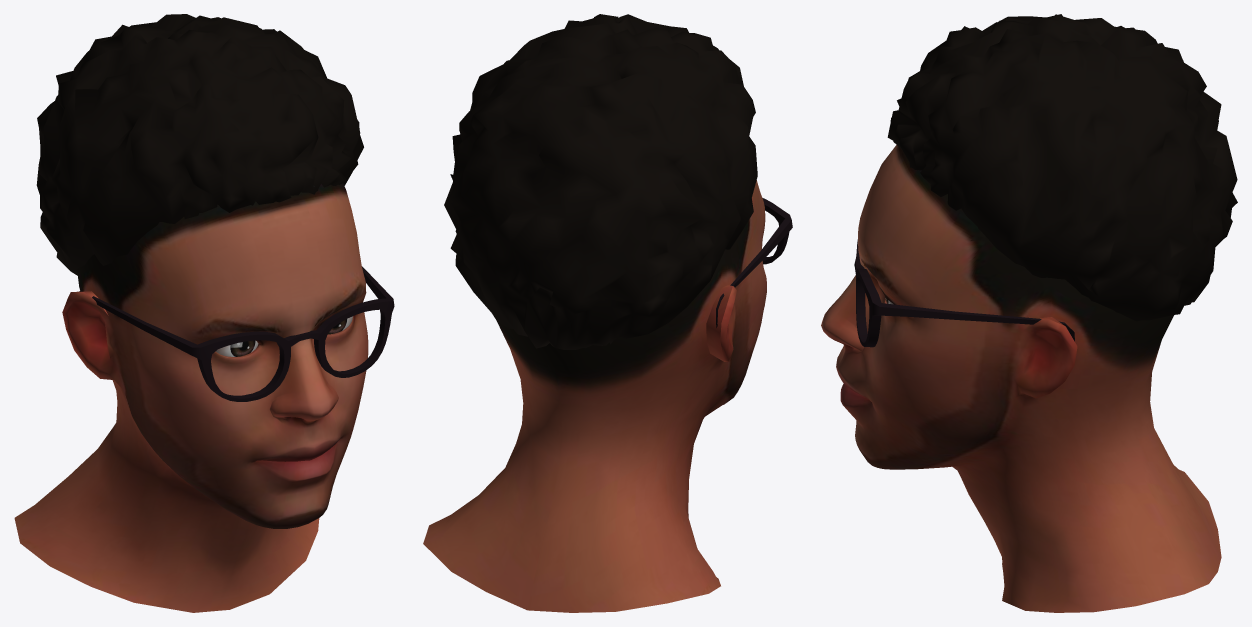
3 views of the same model, side by side, from view 1: azimuth 30°, elevation 25°; view 2: azimuth 150°, elevation 25°; view 3: azimuth 270°, elevation 25° (orthographic). The views are drawn at different scales.
Visible parts, largest first — view 1: Wolf3D_Head, Wolf3D_Hair, Wolf3D_Glasses; view 2: Wolf3D_Hair, Wolf3D_Head, Wolf3D_Glasses; view 3: Wolf3D_Head, Wolf3D_Hair, Wolf3D_Glasses.
Boxes of the visible parts, bbox=[...] form: Wolf3D_Head: bbox=[14, 183, 368, 612]; Wolf3D_Hair: bbox=[36, 14, 363, 275]; Wolf3D_Glasses: bbox=[79, 266, 394, 401]; Wolf3D_Hair: bbox=[444, 14, 757, 349]; Wolf3D_Head: bbox=[423, 180, 766, 612]; Wolf3D_Glasses: bbox=[716, 198, 792, 327]; Wolf3D_Head: bbox=[821, 145, 1221, 612]; Wolf3D_Hair: bbox=[887, 14, 1237, 321]; Wolf3D_Glasses: bbox=[854, 239, 1074, 347].
Bounding box in the file's own units: 0.1919 × 0.3611 × 0.2416.
Materials: 5 (5 with a texture image).
